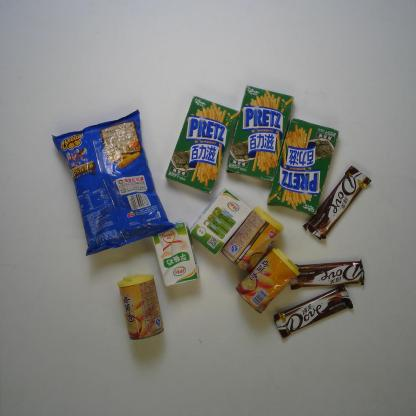Canned Food: (232, 245, 302, 318), (220, 205, 286, 273), (116, 271, 165, 342)
Chocolate: (302, 164, 372, 241), (270, 282, 356, 340), (288, 258, 367, 292)
Dessert: (162, 94, 242, 198), (263, 115, 340, 218), (224, 82, 294, 185)
Milk: (187, 185, 253, 260), (150, 218, 201, 290)
Puffed Food: (48, 105, 177, 266)
